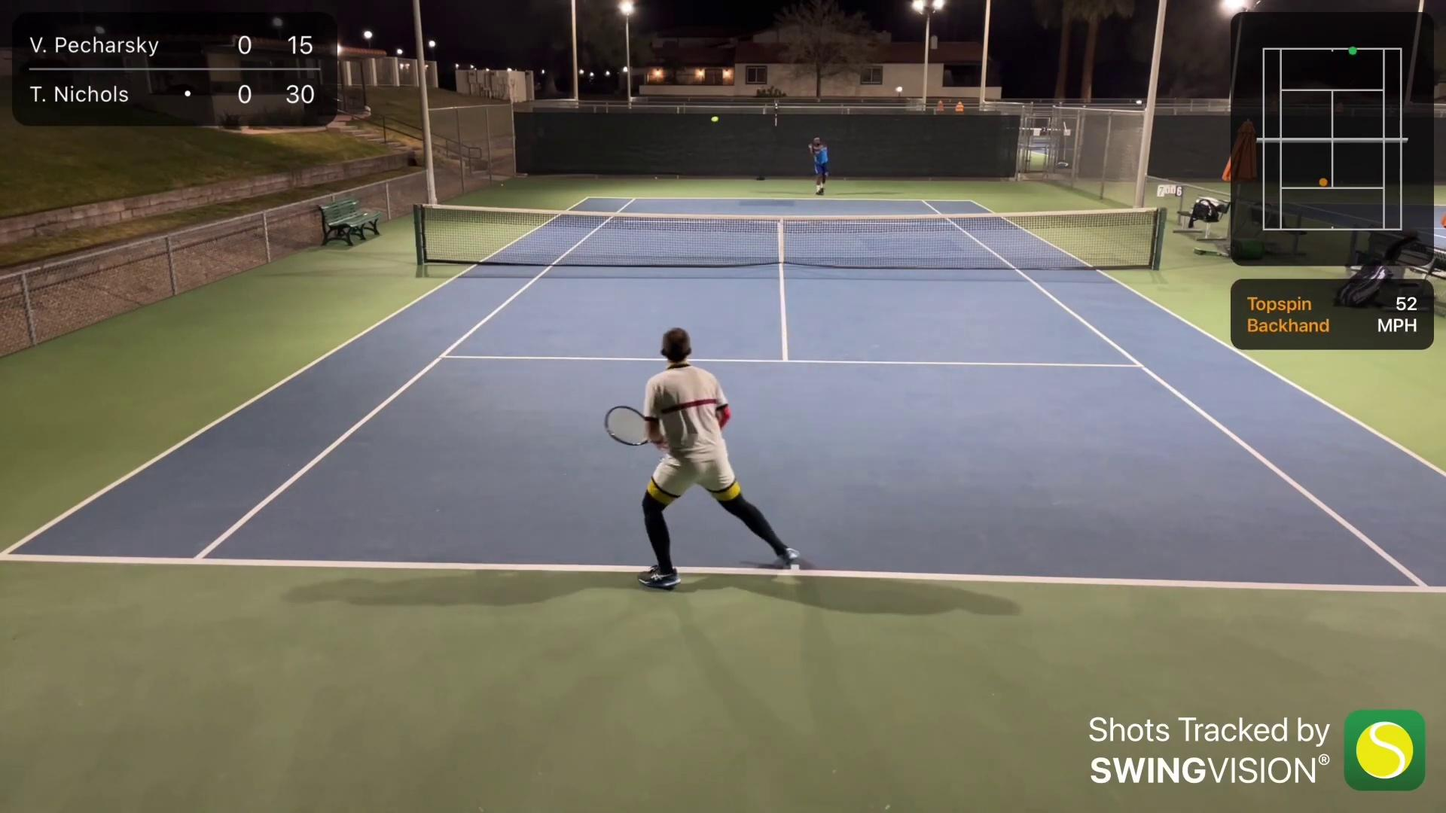ball: (712, 114, 718, 122)
